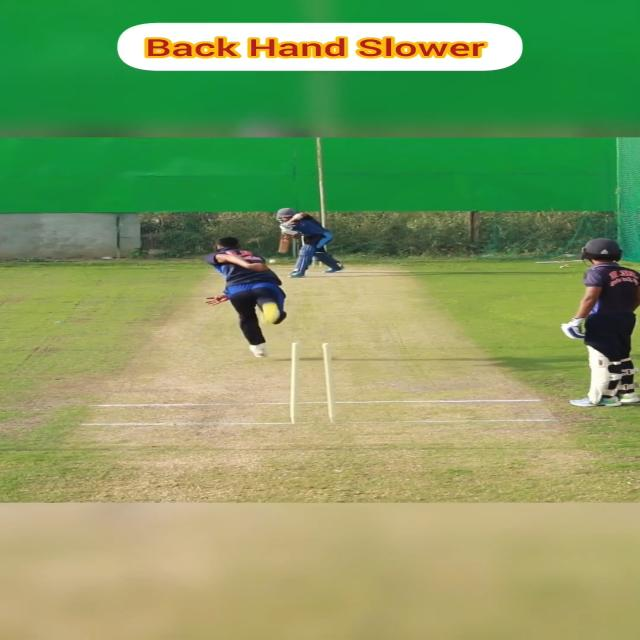ball: (268, 258, 278, 265)
stump: (288, 342, 336, 424)
